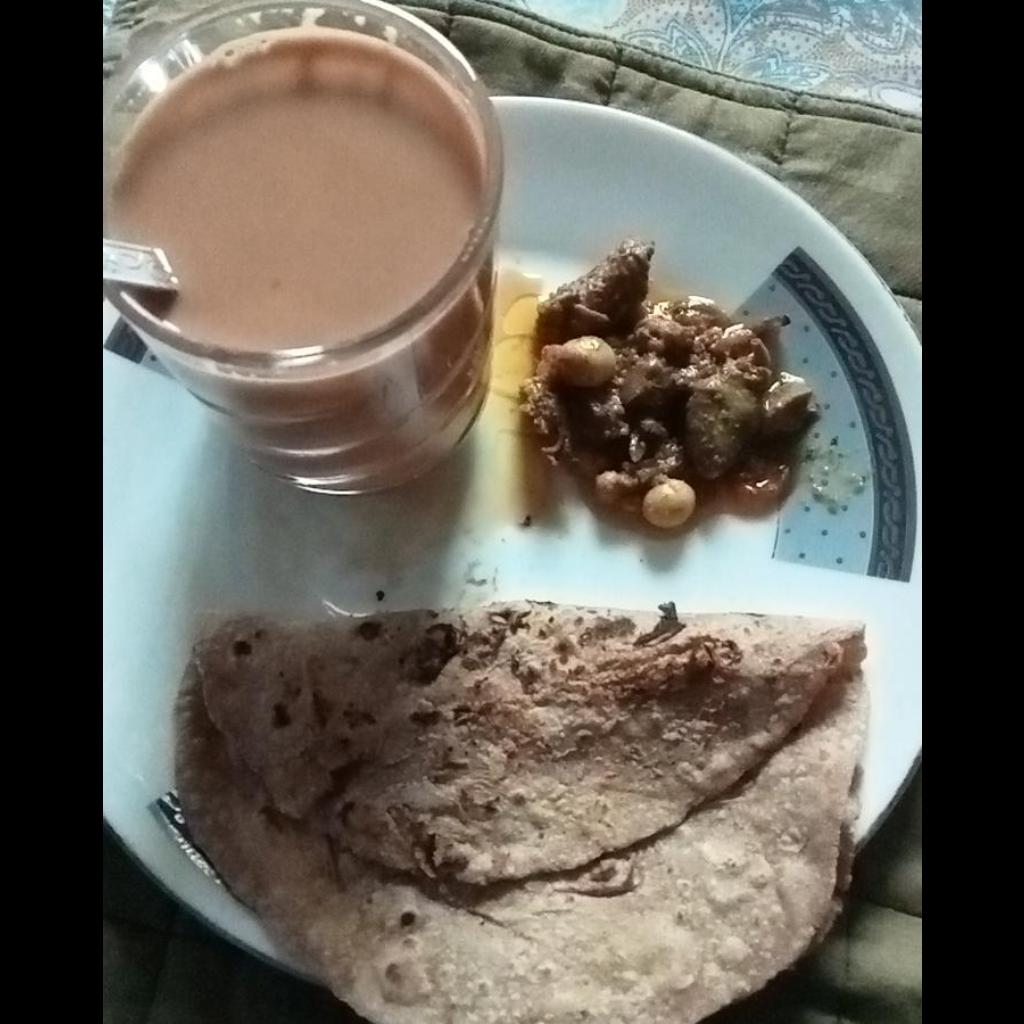beef: (522, 247, 824, 529)
cha: (107, 38, 484, 347)
ruti: (164, 607, 869, 1018)
